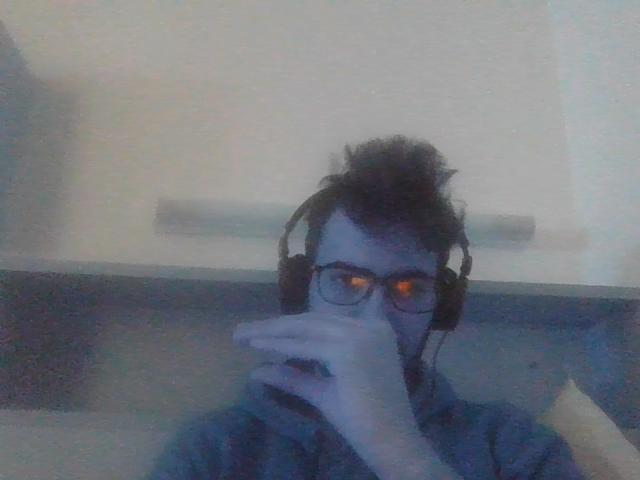no: (231, 318, 395, 414)
